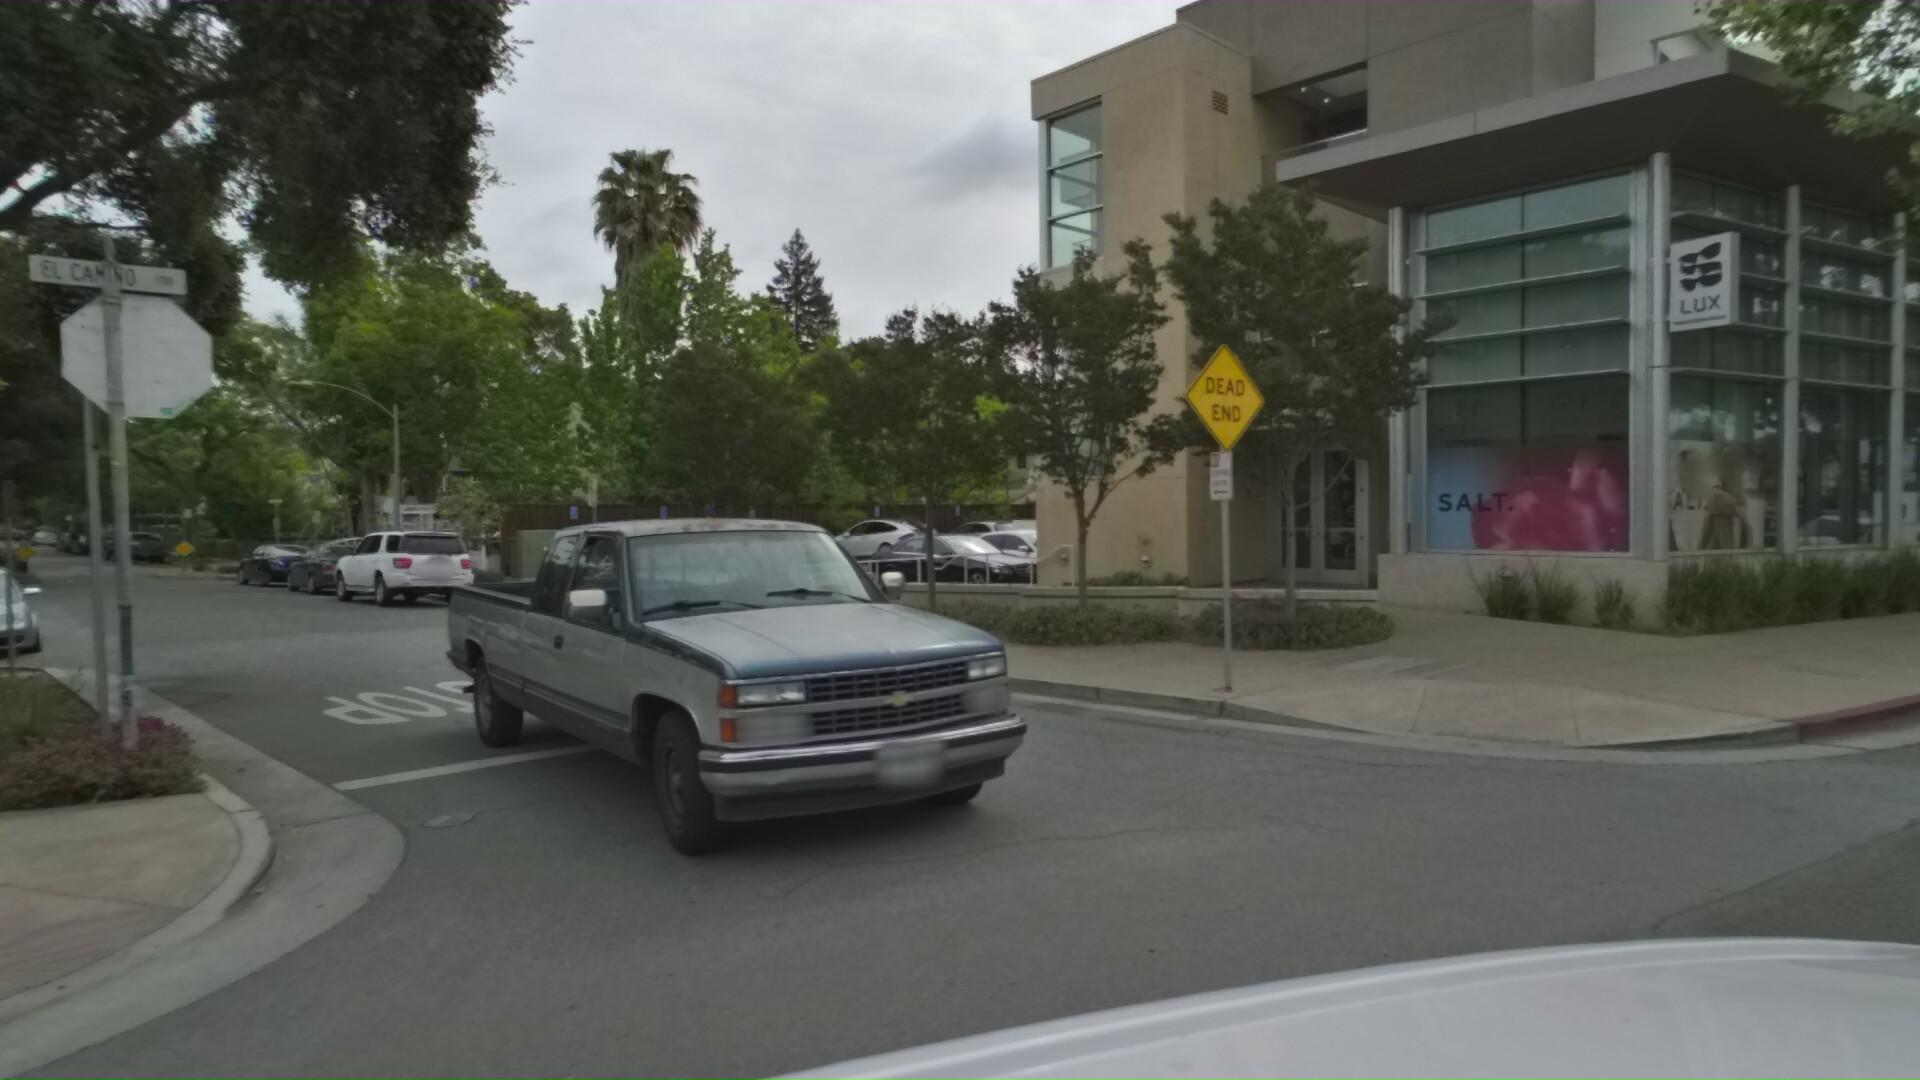car: (483, 510, 1137, 927), (876, 524, 1073, 600), (351, 522, 508, 609), (957, 520, 1137, 591), (0, 555, 90, 678), (713, 516, 837, 574), (306, 537, 414, 593), (252, 535, 349, 584), (0, 560, 55, 646), (119, 527, 183, 567), (74, 530, 121, 556), (0, 541, 7, 599)
